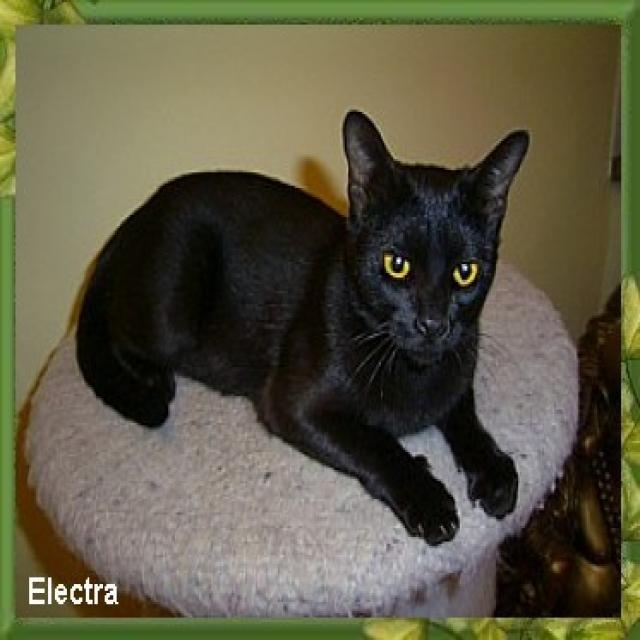Bombay: (340, 108, 527, 361)
